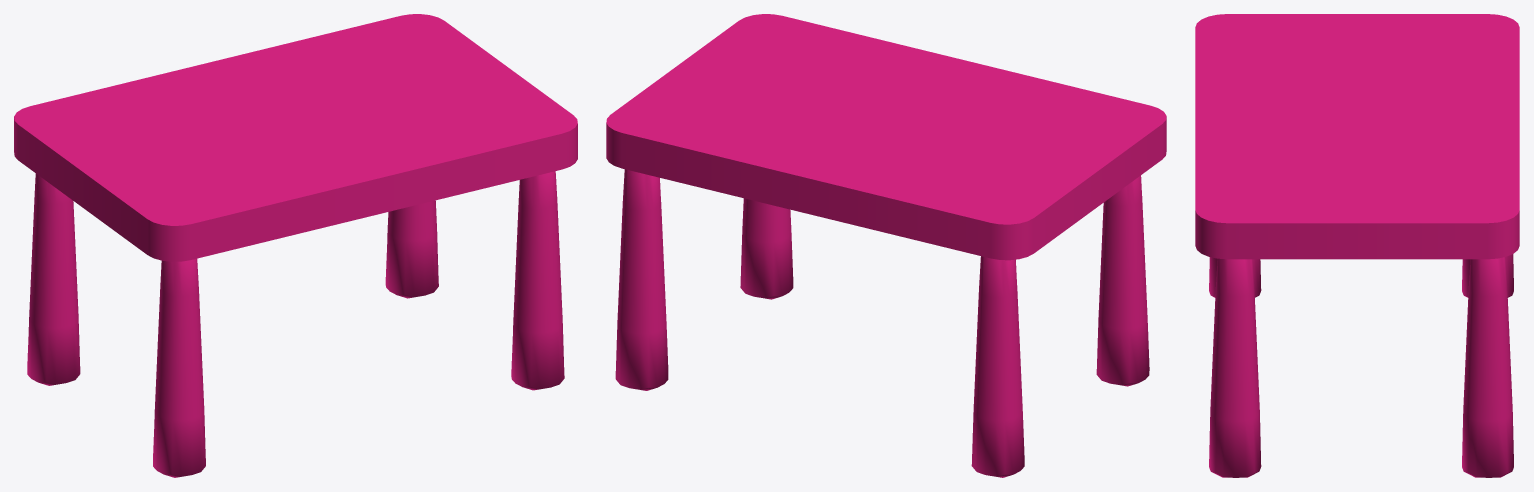
File: BedroomTable.fbx
3 renders of one model, left to right at view 1: azimuth 30°, elevation 25°; view 2: azimuth 150°, elevation 25°; view 3: azimuth 270°, elevation 25°, orthographic.
Visible parts, largest first — view 1: Cube, Cube.003, Cube.002, Cube.004, Cube.001; view 2: Cube, Cube.004, Cube.001, Cube.003, Cube.002; view 3: Cube, Cube.001, Cube.002, Cube.004, Cube.003.
Boxes of the visible parts, box(x1,y1,x2,y2) form: Cube: box(14, 14, 577, 261); Cube.003: box(153, 258, 205, 477); Cube.002: box(511, 171, 564, 390); Cube.004: box(27, 173, 80, 385); Cube.001: box(385, 200, 438, 298); Cube: box(606, 14, 1166, 260); Cube.004: box(971, 256, 1024, 477); Cube.001: box(615, 169, 668, 390); Cube.003: box(1096, 175, 1149, 386); Cube.002: box(740, 198, 793, 299); Cube: box(1195, 14, 1519, 259); Cube.001: box(1462, 257, 1513, 477); Cube.002: box(1209, 258, 1261, 477); Cube.004: box(1462, 254, 1513, 297); Cube.003: box(1209, 257, 1261, 297).
Bounding box in the file's own units: 252 × 149 × 165.
